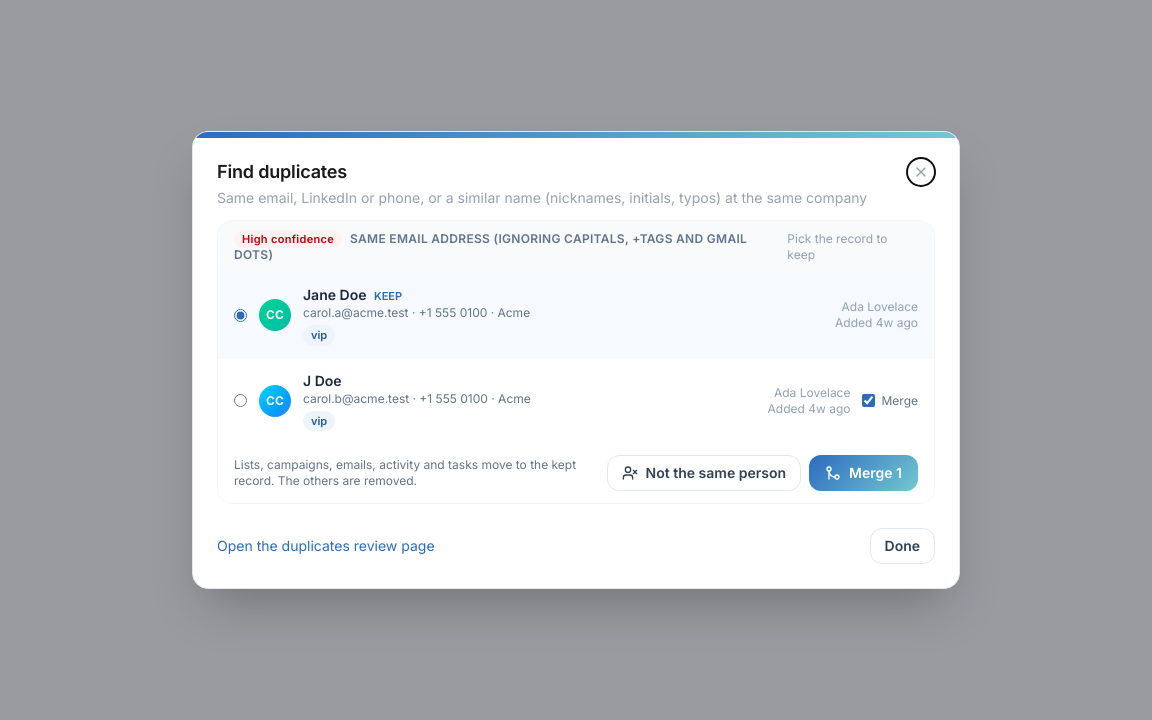
Test case: Find duplicates modal › opens the merge preview before merging
Expected: the text "High confidence" is shown, [234,230,342,248]
Click the button "Merge 1": (864, 473) [809,455,918,491]
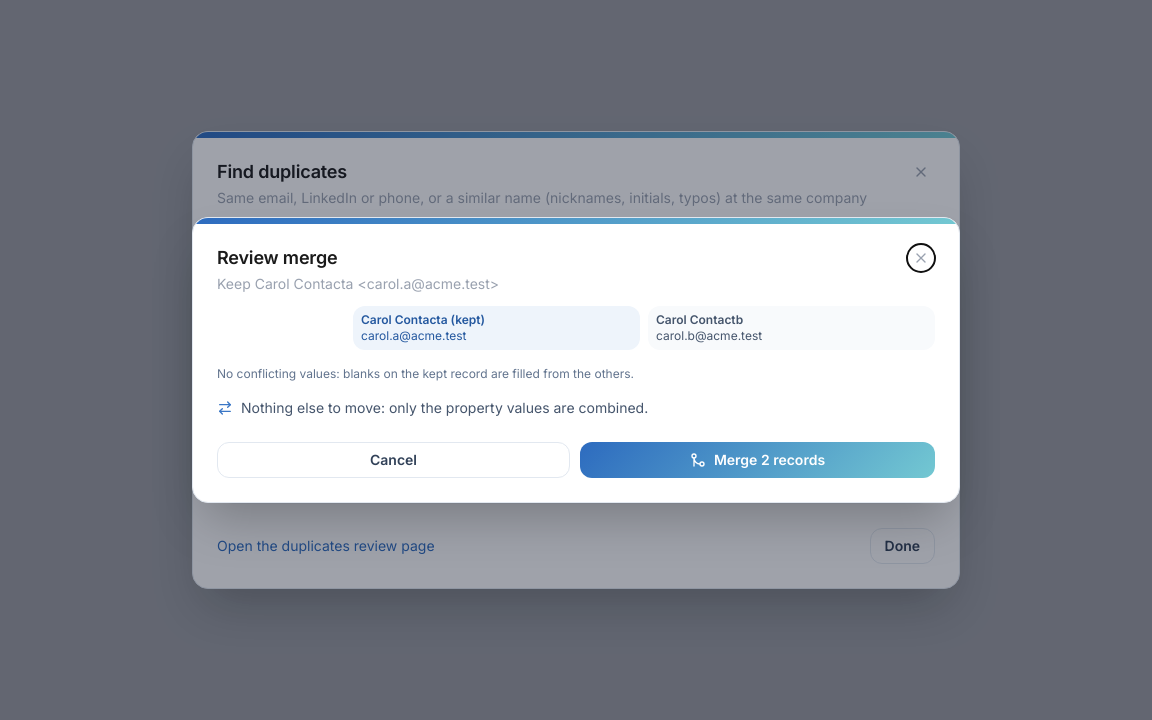
Result: the text "No conflicting values" is shown at [217,366,634,381]
